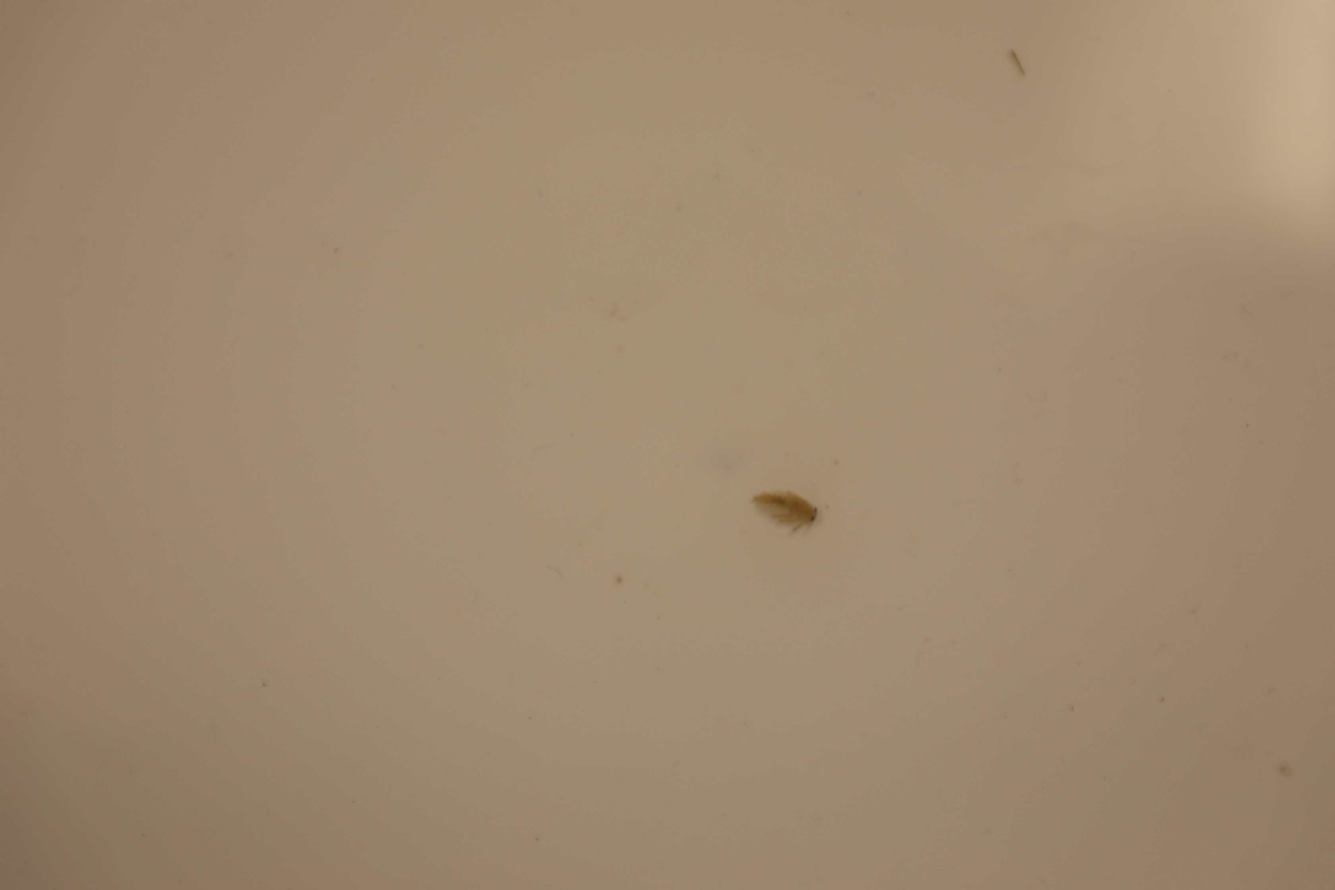Mayfly: (751, 490, 828, 534)
